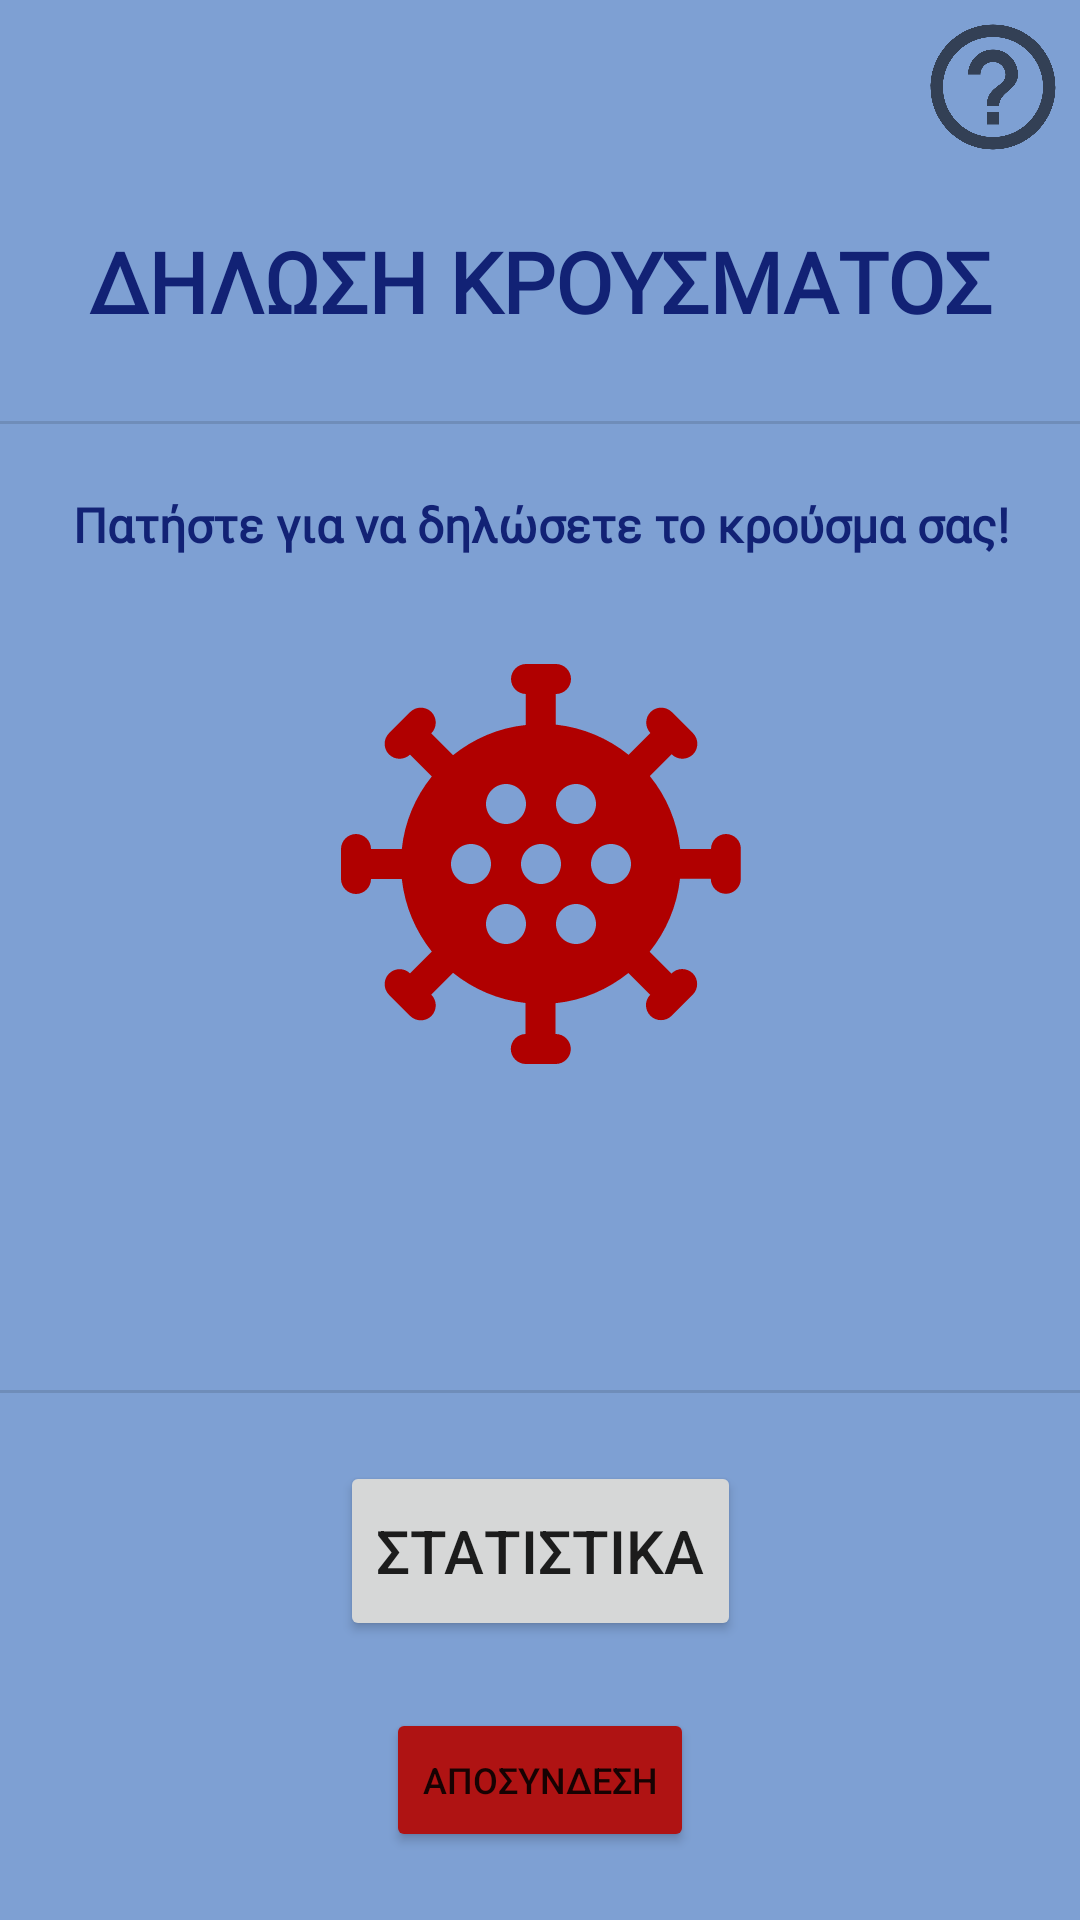

Icon click points for this 1080px x 1920px phone screenshot, format (x,y):
help: (993,87)
